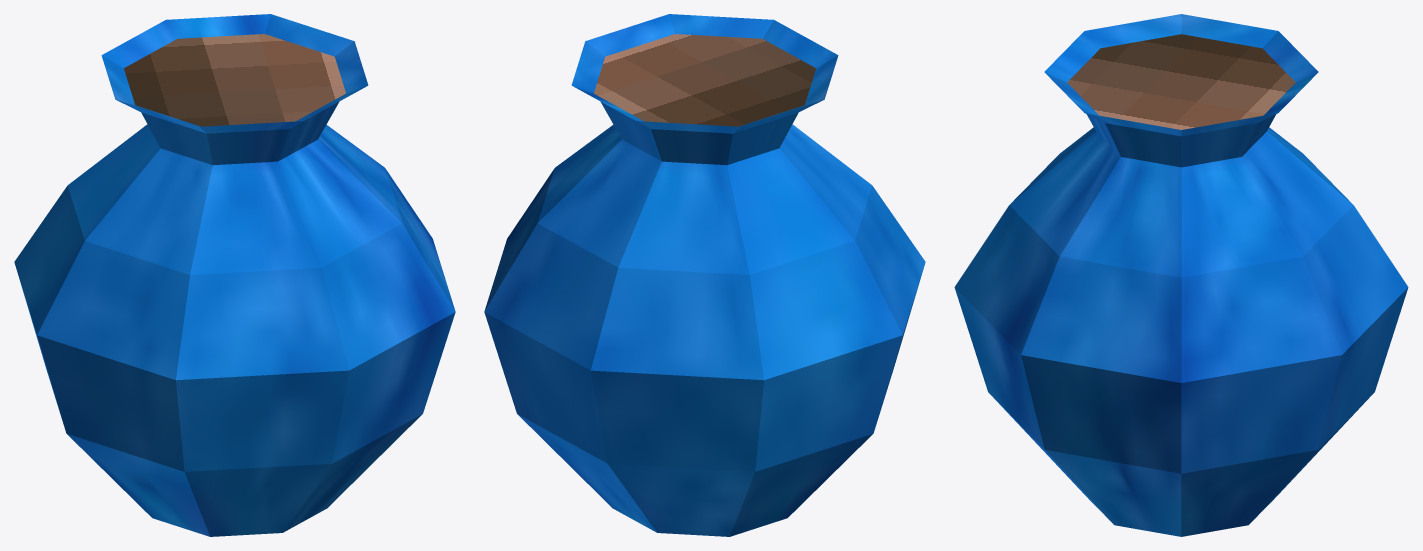
File: vase 2.fbx
3 renders of one model, left to right at view 1: azimuth 30°, elevation 25°; view 2: azimuth 150°, elevation 25°; view 3: azimuth 270°, elevation 25°, orthographic.
Visible parts, largest first — view 1: Cylinder; view 2: Cylinder; view 3: Cylinder.
Part boxes in pixels (bbox=[...]): Cylinder: bbox=[14, 14, 455, 536]; Cylinder: bbox=[484, 14, 925, 536]; Cylinder: bbox=[954, 14, 1408, 536].
Bounding box in the file's own units: 353 × 364 × 353.
